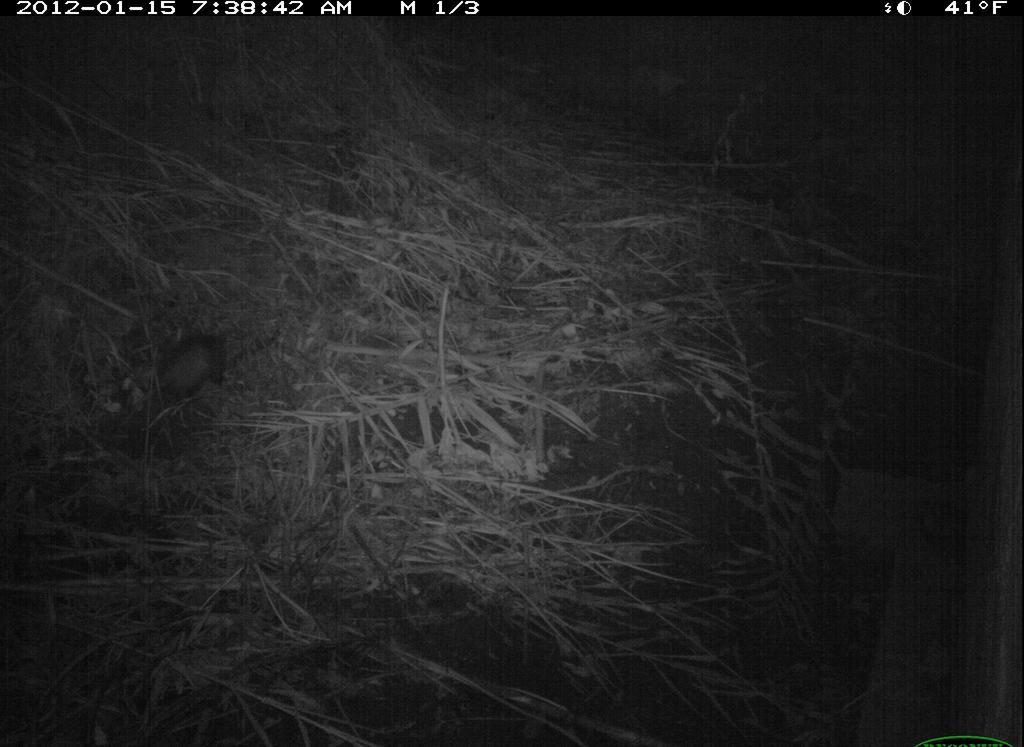opossum: (118, 318, 267, 409)
